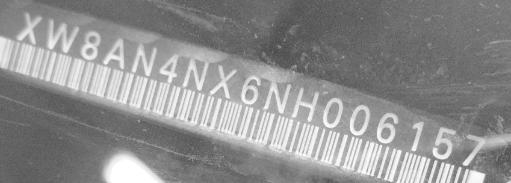letter: (43, 15, 82, 57), (10, 9, 45, 53), (181, 54, 215, 97), (372, 109, 405, 150), (429, 122, 458, 167), (262, 77, 295, 116), (288, 84, 321, 123), (99, 36, 132, 74), (208, 61, 238, 102), (127, 43, 160, 79), (238, 70, 267, 109), (319, 93, 347, 132), (77, 29, 105, 65), (461, 133, 489, 168), (156, 51, 183, 87), (346, 102, 373, 138), (403, 118, 430, 154)
